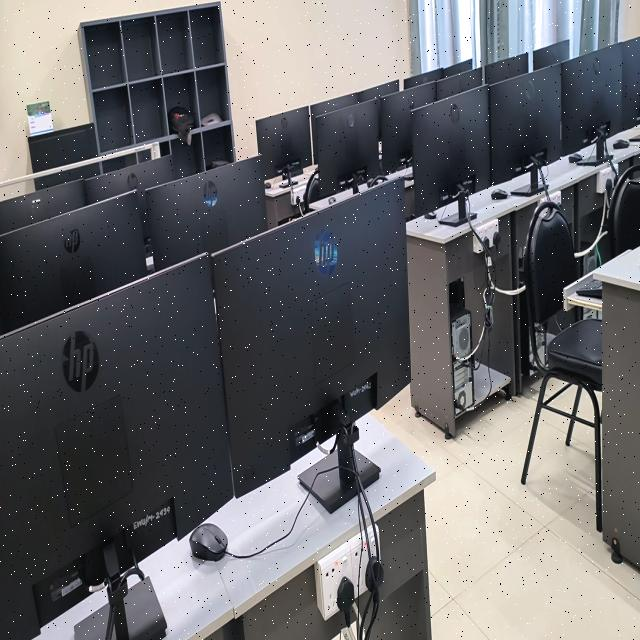Chair: (521, 184, 602, 531), (603, 166, 640, 257), (302, 165, 319, 212)
Cpu: (450, 298, 473, 416), (582, 236, 599, 276)
Keyboard: (576, 279, 602, 298)
Monitor: (0, 254, 233, 640), (213, 178, 410, 512), (0, 191, 146, 333), (146, 156, 268, 270), (411, 86, 490, 226), (490, 63, 562, 187), (561, 43, 625, 162), (315, 98, 380, 196), (84, 155, 175, 215), (380, 82, 436, 173), (0, 179, 86, 234), (256, 106, 312, 179), (310, 92, 360, 154), (622, 37, 640, 128), (436, 68, 482, 100), (485, 54, 528, 84), (533, 40, 569, 70), (359, 79, 399, 102), (404, 68, 444, 89), (443, 59, 472, 77)
Mouse: (190, 523, 228, 561), (491, 189, 508, 200), (613, 139, 629, 149), (568, 153, 582, 162), (424, 212, 436, 219), (265, 183, 271, 189)
